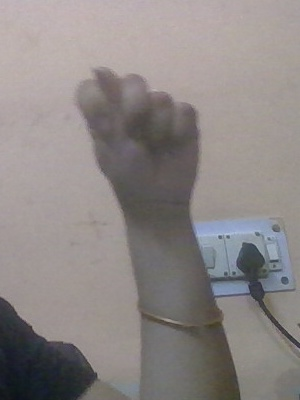T: (71, 63, 215, 230)
